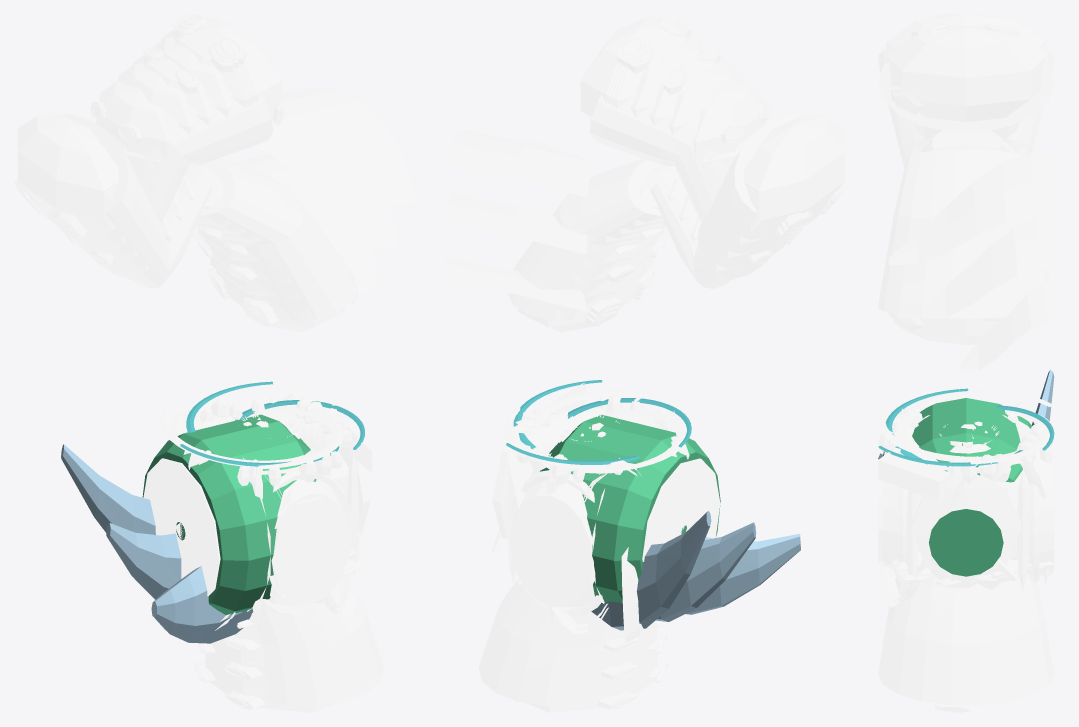
File: traversee-v5-leger.glb
3 views of the same model, side by side, from view 1: azimuth 30°, elevation 25°; view 2: azimuth 150°, elevation 25°; view 3: azimuth 270°, elevation 25° (orthographic). The views are drawn at different scales.
Parts seen in each view (by area): view 1: tentacule_s3.001, tentacule_s4.001, tentacule_s2.001, jumeaux_drapeau.001, tentacule_s1.001, bouteille_flotte_lueur, bourrasque_souffle.001, tonneau_flotte.001, bouteille_flotte.001, tourbillon_corps.001, tourbillon_spirale.001, bourrasque_rubans.001 (+2 smaller); view 2: tentacule_s3.001, tentacule_s4.001, tentacule_s2.001, tentacule_s1.001, jumeaux_drapeau.001, bouteille_flotte_lueur, bourrasque_souffle.001, tonneau_flotte.001, bouteille_flotte.001, tourbillon_corps.001, tourbillon_spirale.001, tourbillon_remous_lueur (+3 smaller); view 3: tentacule_s1.001, jumeaux_drapeau.001, tentacule_s3.001, tentacule_s2.001, bouteille_flotte_lueur, tonneau_flotte.001, tentacule_s4.001, bouteille_flotte.001, tourbillon_spirale.001, tourbillon_corps.001, tentacule_corps.001, tourbillon_remous.001 (+7 smaller).
Boxes of the visible parts, <box> form: tentacule_s3.001: <box>90,14,284,222</box>; tentacule_s4.001: <box>14,114,212,288</box>; tentacule_s2.001: <box>188,158,357,331</box>; jumeaux_drapeau.001: <box>191,86,415,291</box>; tentacule_s1.001: <box>194,576,384,712</box>; bouteille_flotte_lueur: <box>142,414,316,615</box>; bourrasque_souffle.001: <box>61,444,253,643</box>; tonneau_flotte.001: <box>256,420,352,614</box>; bouteille_flotte.001: <box>143,428,370,611</box>; tourbillon_corps.001: <box>183,396,351,485</box>; tourbillon_spirale.001: <box>160,386,343,469</box>; bourrasque_rubans.001: <box>172,390,360,630</box>; tentacule_s3.001: <box>580,14,771,222</box>; tentacule_s4.001: <box>650,114,849,288</box>; tentacule_s2.001: <box>507,158,674,332</box>; tentacule_s1.001: <box>478,578,668,712</box>; jumeaux_drapeau.001: <box>444,131,590,311</box>; bouteille_flotte_lueur: <box>540,415,720,602</box>; bourrasque_souffle.001: <box>591,511,800,630</box>; tonneau_flotte.001: <box>492,422,603,617</box>; bouteille_flotte.001: <box>492,428,720,603</box>; tourbillon_corps.001: <box>513,394,689,485</box>; tourbillon_spirale.001: <box>505,390,688,472</box>; tourbillon_remous_lueur: <box>506,380,691,471</box>; tentacule_s1.001: <box>878,574,1054,712</box>; jumeaux_drapeau.001: <box>888,152,1064,372</box>; tentacule_s3.001: <box>878,23,1053,141</box>; tentacule_s2.001: <box>878,145,1049,345</box>; bouteille_flotte_lueur: <box>883,398,1031,576</box>; tonneau_flotte.001: <box>878,424,1054,583</box>; tentacule_s4.001: <box>878,14,1054,168</box>; bouteille_flotte.001: <box>910,415,1021,583</box>; tourbillon_spirale.001: <box>878,390,1054,466</box>; tourbillon_corps.001: <box>878,395,1054,485</box>; tentacule_corps.001: <box>895,408,1052,592</box>; tourbillon_remous.001: <box>878,452,950,501</box>.
Size of the model in its own units: 4.3 by 7.95 by 2.12.
